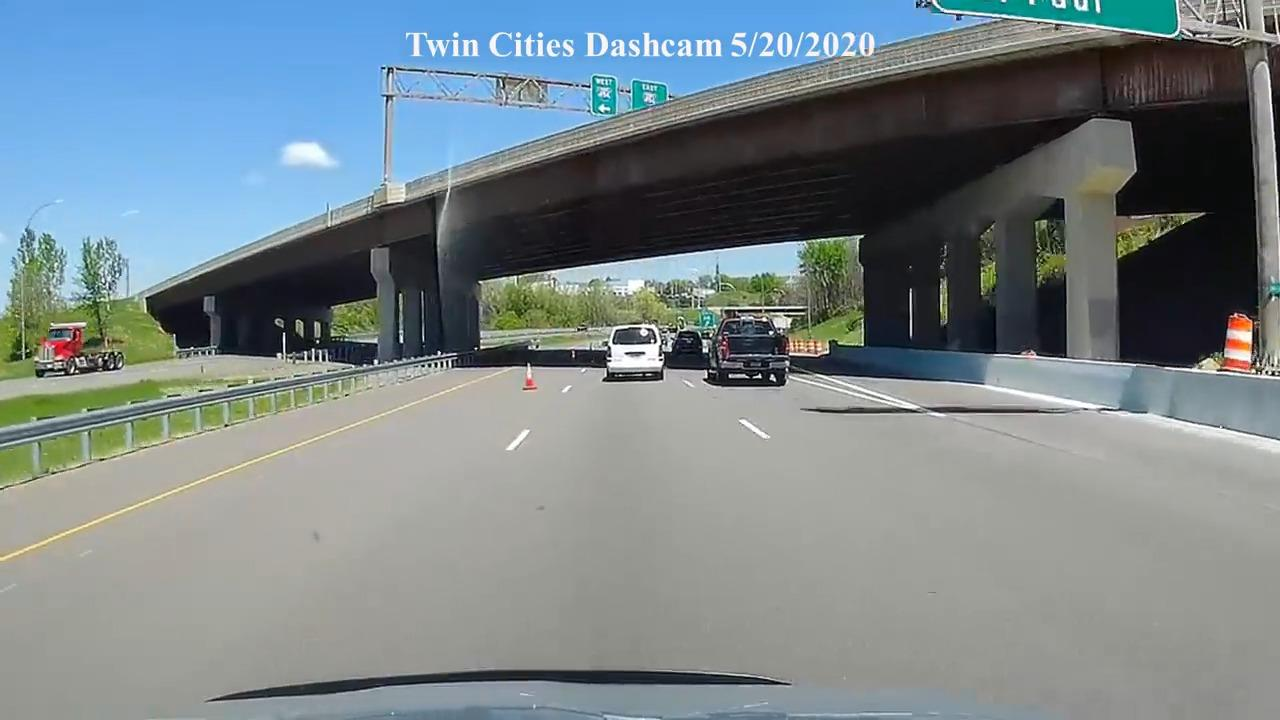car: (704, 314, 791, 386), (602, 324, 667, 382), (672, 330, 703, 355)
traffic cone: (1219, 313, 1254, 374), (521, 363, 539, 391)
